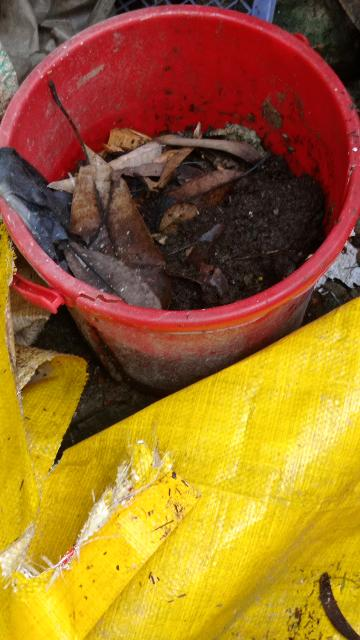hardplastic: (3, 9, 360, 350)
